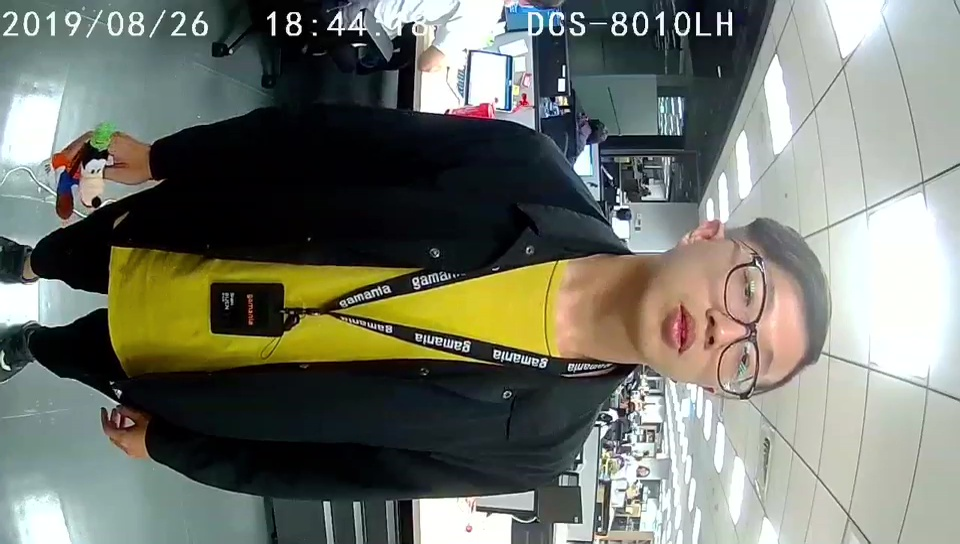goofy: (35, 125, 111, 223)
